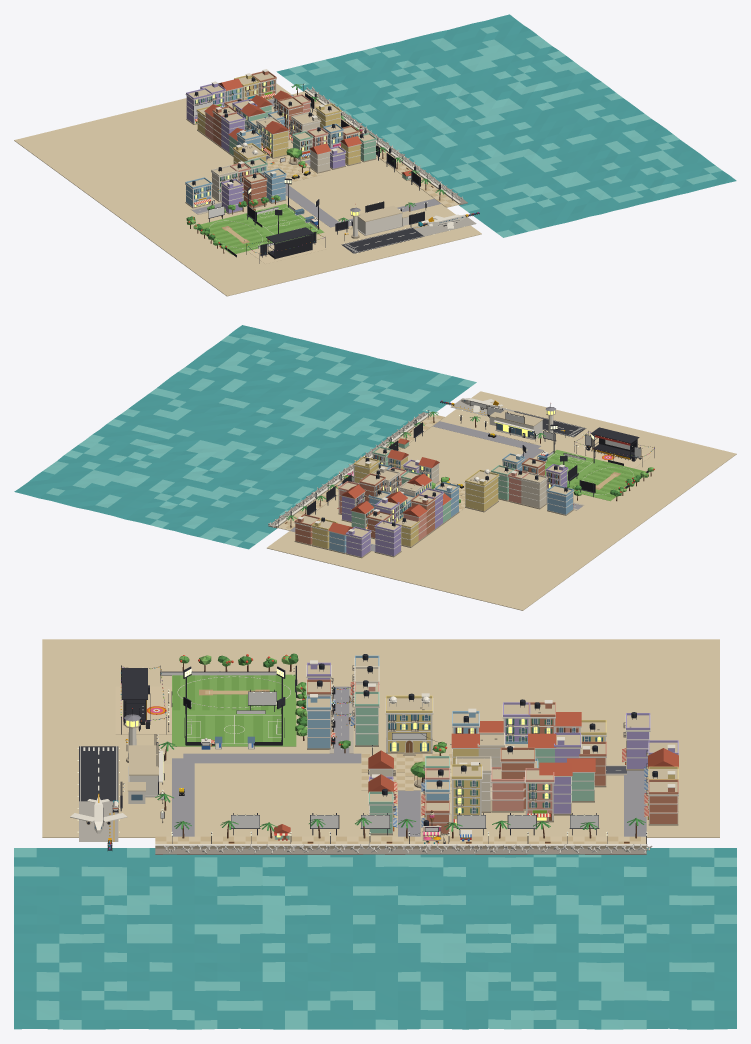
File: world-city-v7.glb
3 views of the same model, one above another, from view 1: azimuth 30°, elevation 25°; view 2: azimuth 150°, elevation 25°; view 3: azimuth 270°, elevation 25° (orthographic). The views are drawn at different scales.
Visible parts, largest first — view 1: sea, ground, props__trim, maidan__grass, maidan__grass2, props__trimdk, airport__trim, bazaar__trim, maidan__frame, art__trim, props__w_butter, airport__runway (+20 smaller); view 2: sea, ground, maidan__grass, props__trim, bazaar__w_lav, props__trimdk, maidan__grass2, maidan__iron, bazaar__trim, studio__w_butter, props__w_lav, props__roof_t (+18 smaller); view 3: sea, ground, maidan__grass, maidan__grass2, props__trim, seafront__rock, props__trimdk, props__w_terra, seafront__plaza, airport__runway, seafront__plaza2, bazaar__trimdk (+33 smaller).
Boxes of the visible parts, x1,y1,x2,y2 form: sea: (276,14,736,237); ground: (14,83,481,296); props__trim: (200,69,377,166); maidan__grass: (193,203,324,254); maidan__grass2: (199,207,313,253); props__trimdk: (202,73,374,155); airport__trim: (346,211,465,236); bazaar__trim: (185,94,289,157); maidan__frame: (200,205,319,258); art__trim: (185,161,286,207); props__w_butter: (234,75,360,164); airport__runway: (341,227,424,253); sea: (14,325,476,549); ground: (267,391,736,610); maidan__grass: (545,450,649,500); props__trim: (294,453,439,550); bazaar__w_lav: (374,488,443,556); props__trimdk: (295,448,418,537); maidan__grass2: (545,456,648,497); maidan__iron: (522,424,654,497); bazaar__trim: (366,481,459,550); studio__w_butter: (465,469,498,510); props__w_lav: (342,459,418,556); props__roof_t: (328,449,439,534); sea: (14,848,736,1029); ground: (42,639,719,837); maidan__grass: (172,674,296,746); maidan__grass2: (173,675,281,743); props__trim: (368,743,678,833); seafront__rock: (155,848,646,854); props__trimdk: (370,742,678,810); props__w_terra: (425,747,678,833); seafront__plaza: (155,836,646,843); airport__runway: (79,746,118,801); seafront__plaza2: (155,836,640,843); bazaar__trimdk: (453,704,649,756).
Bounding box in the file's own units: 326 × 22.62 × 256.
